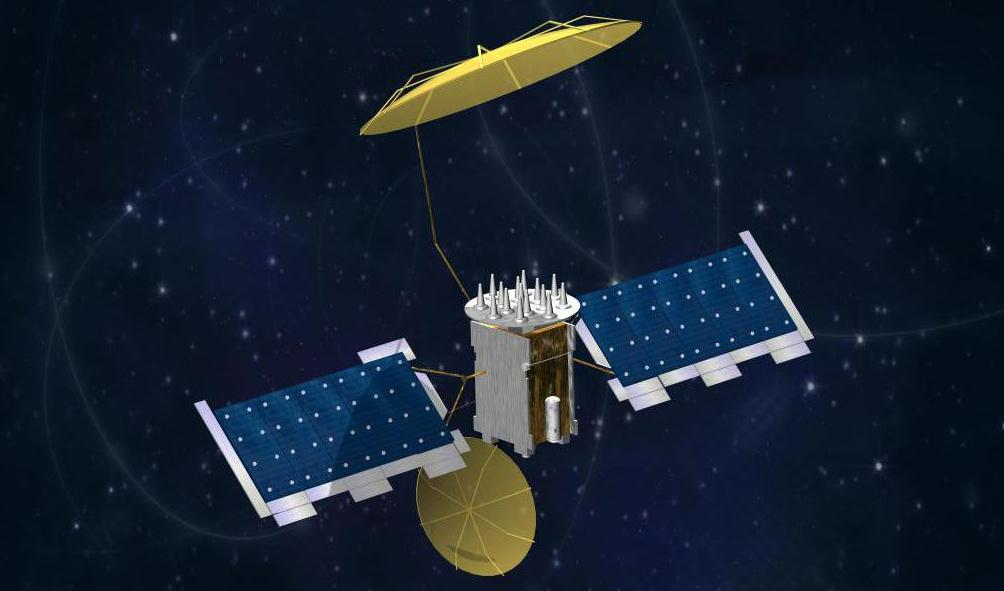antenna: (357, 18, 643, 138), (412, 432, 539, 577), (520, 361, 532, 373)
body: (463, 286, 581, 463)
solar: (190, 334, 473, 529), (549, 227, 818, 414)
